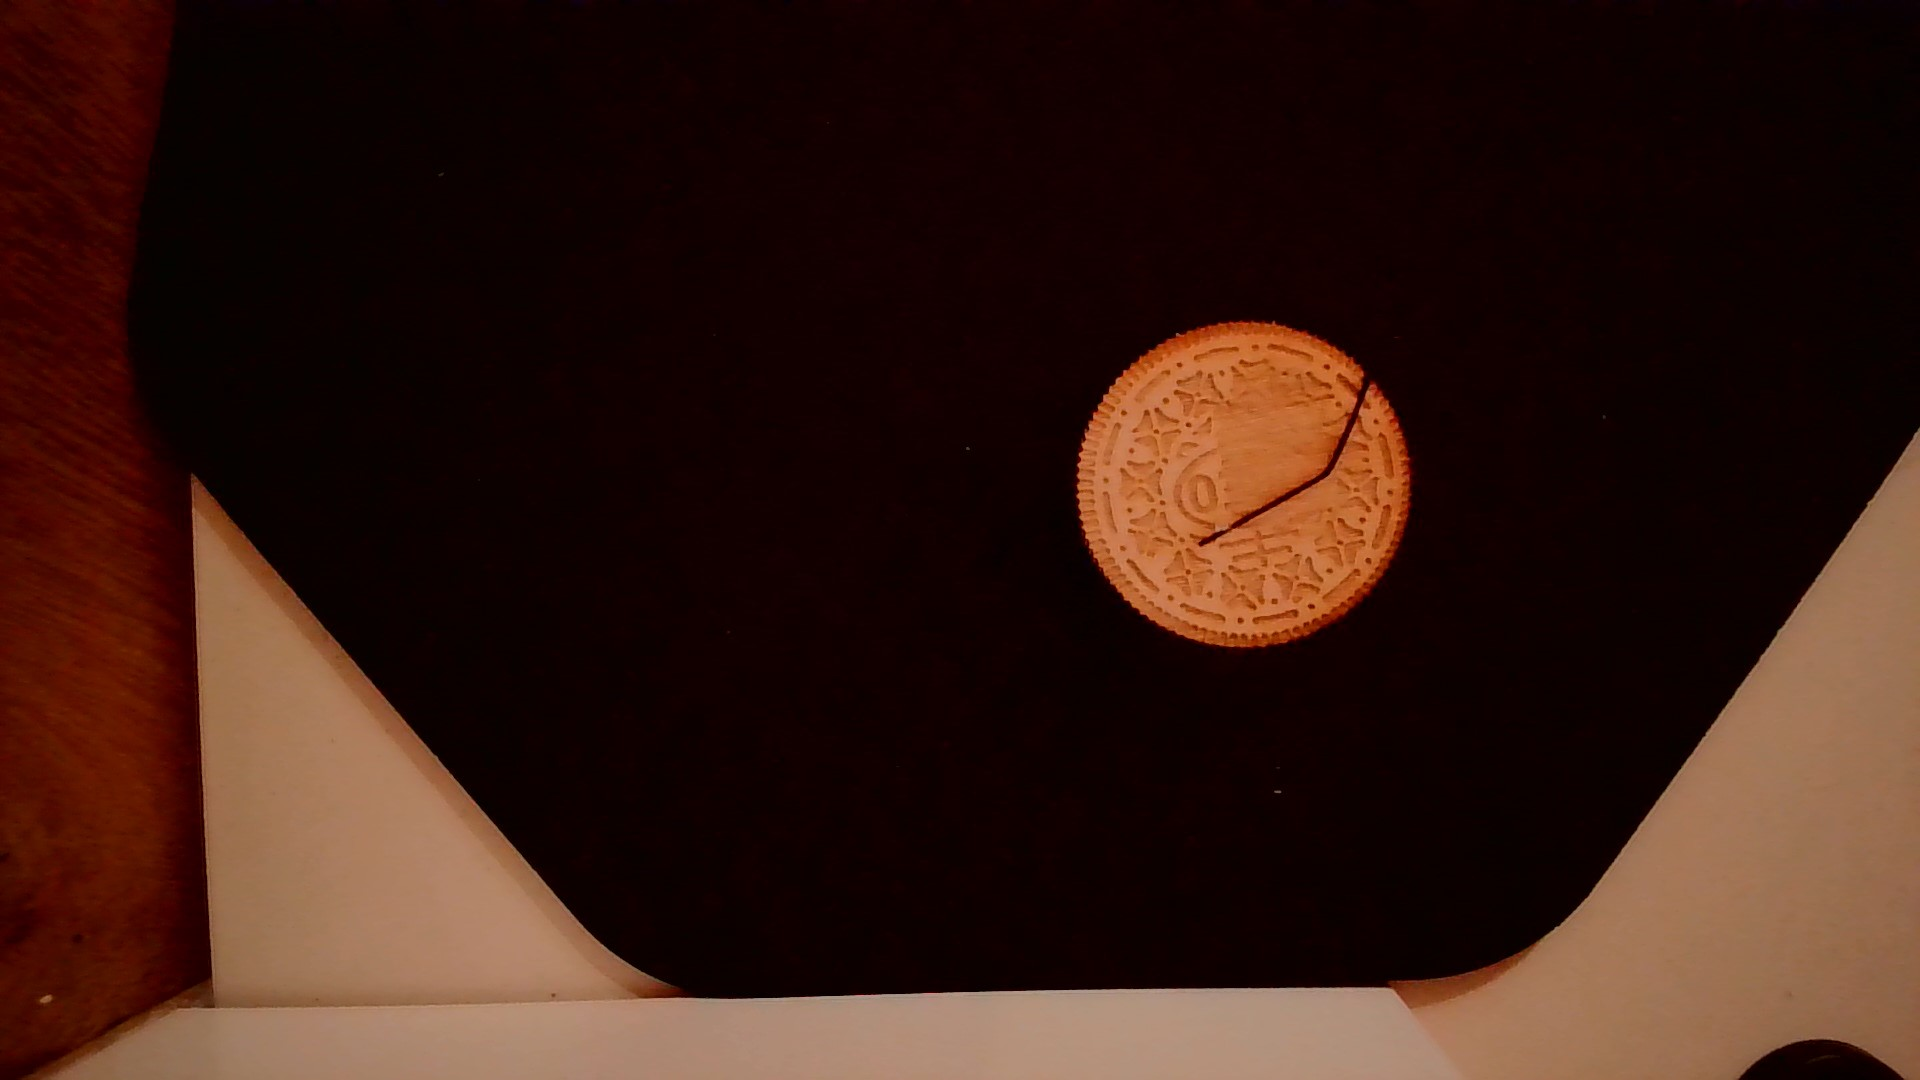Effacé: (1220, 371, 1328, 518)
Fissure: (1195, 367, 1375, 556)
Oréo: (1068, 305, 1420, 653)
